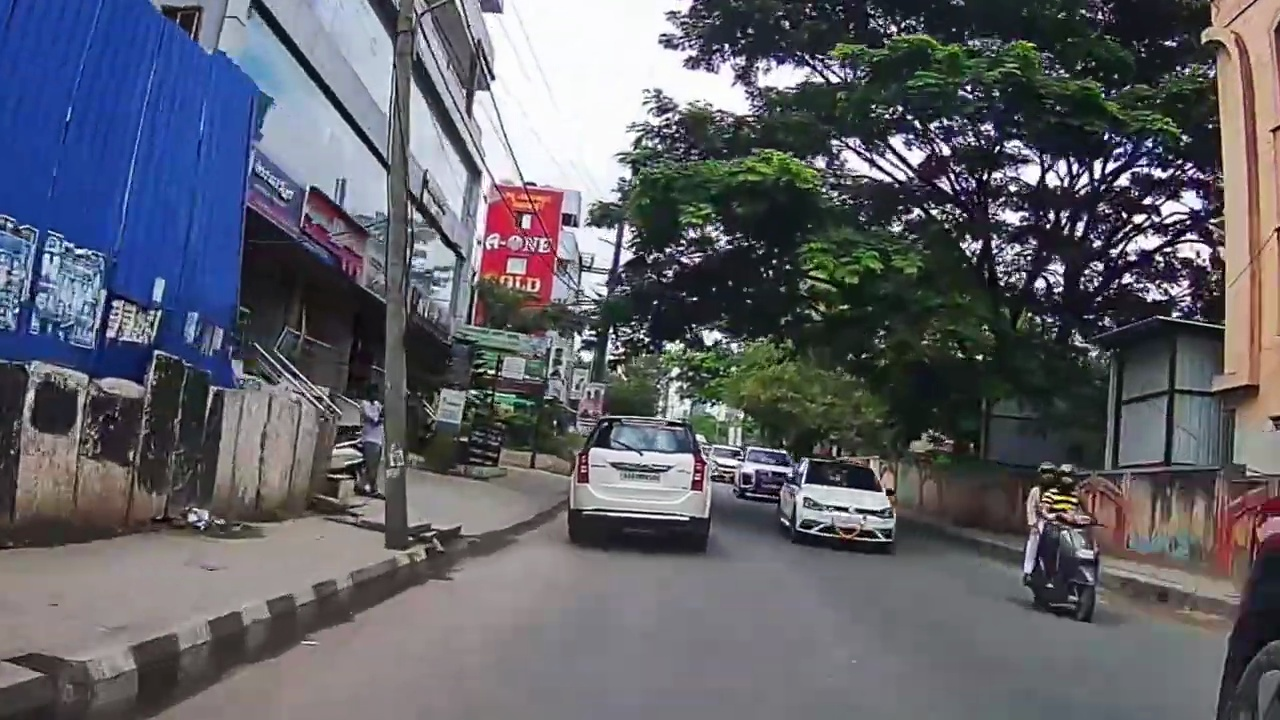garbage: (179, 506, 234, 539)
